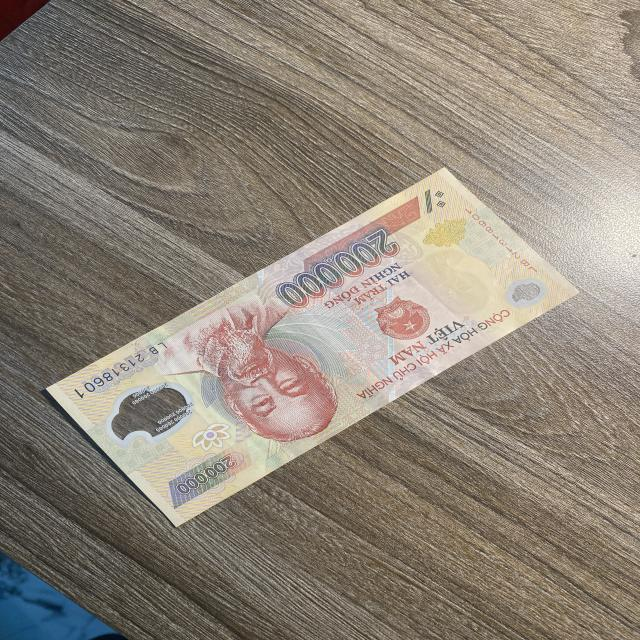200 000 VND: (45, 165, 583, 530)
